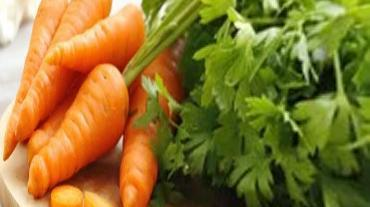carrot: (0, 0, 163, 205), (29, 52, 169, 207), (44, 4, 162, 78)
